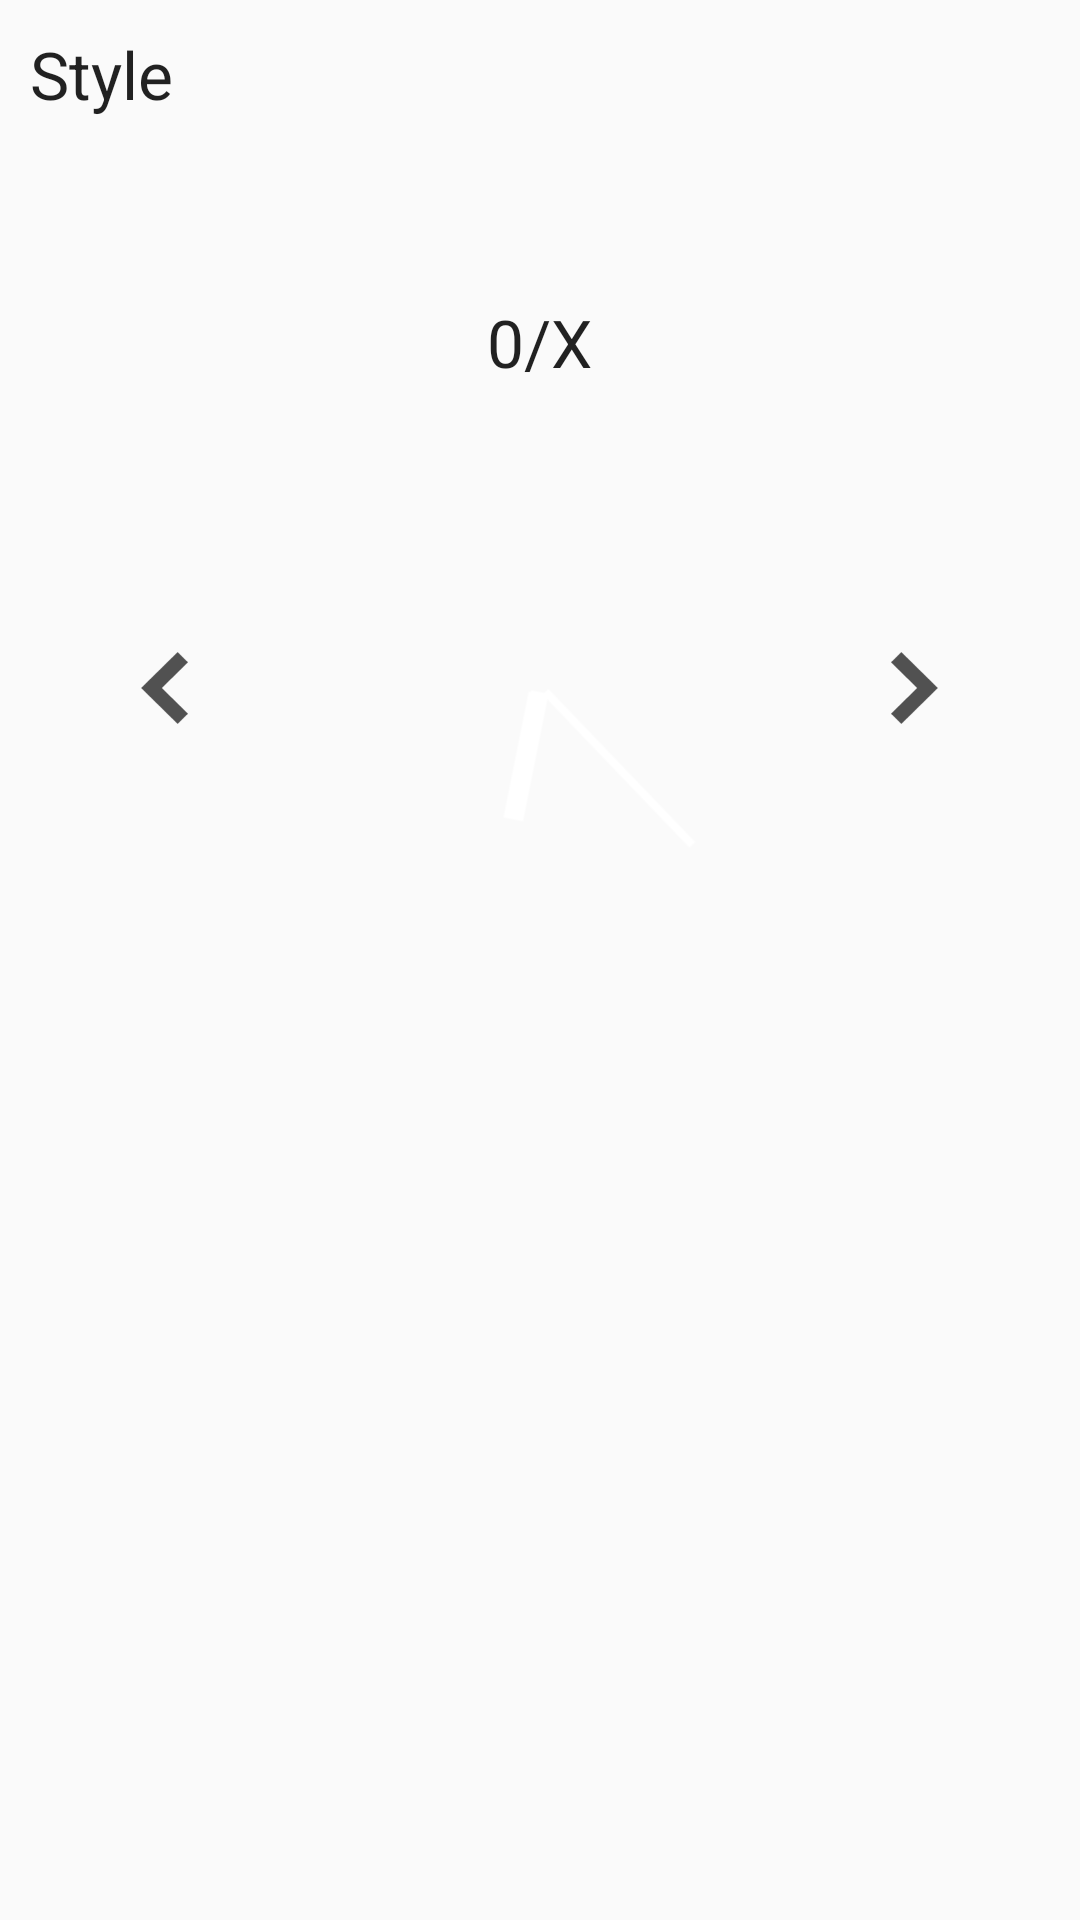

Icons on this 1080x1920 Android screen, each with its box as [x1,y1,x2,y2]:
arrow left: [141,652,188,724]
arrow right: [891,652,938,724]
